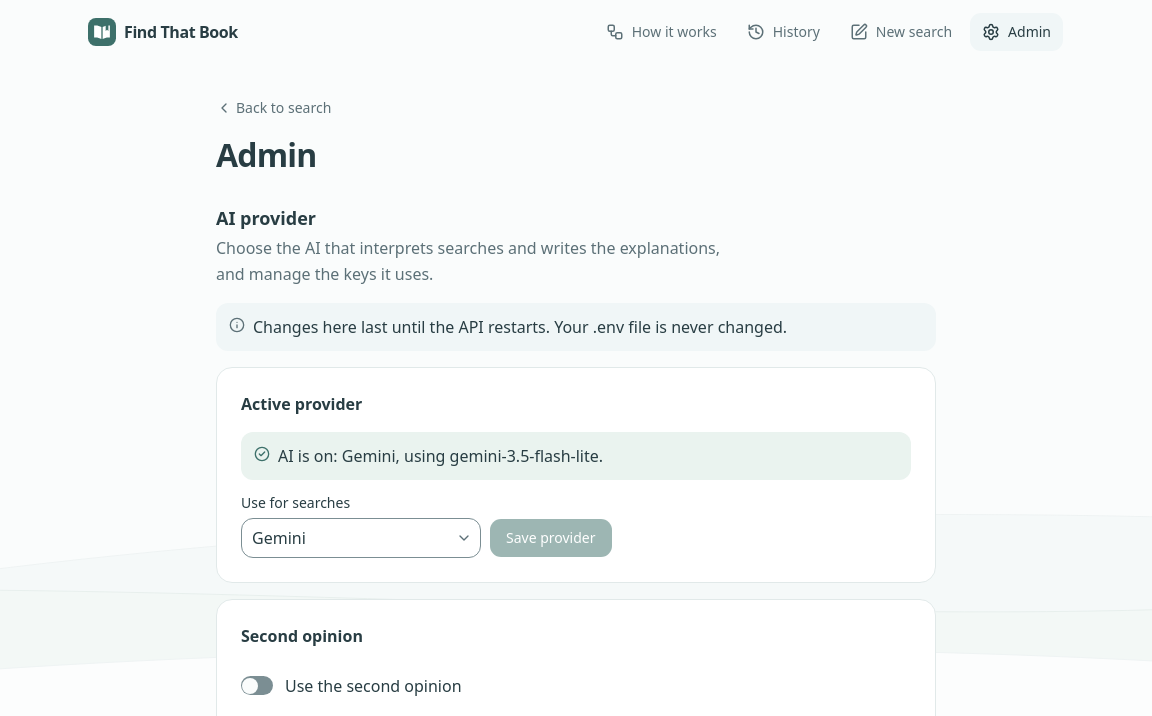
Turn on AI › offers automatic selection in the provider list and sends it as "auto"
Click the dropdown named "Use for searches": click(361, 538) [241,518,481,558]
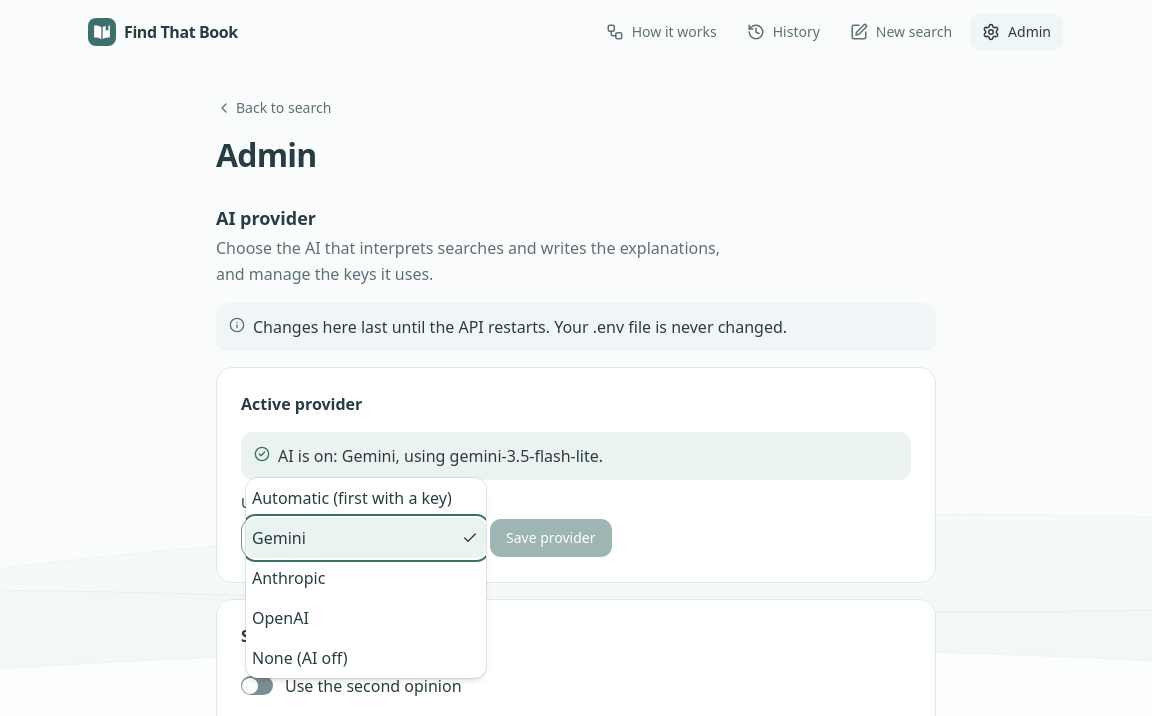
Click the option "Automatic (first with a key)": click(352, 498) [252,487,452,509]
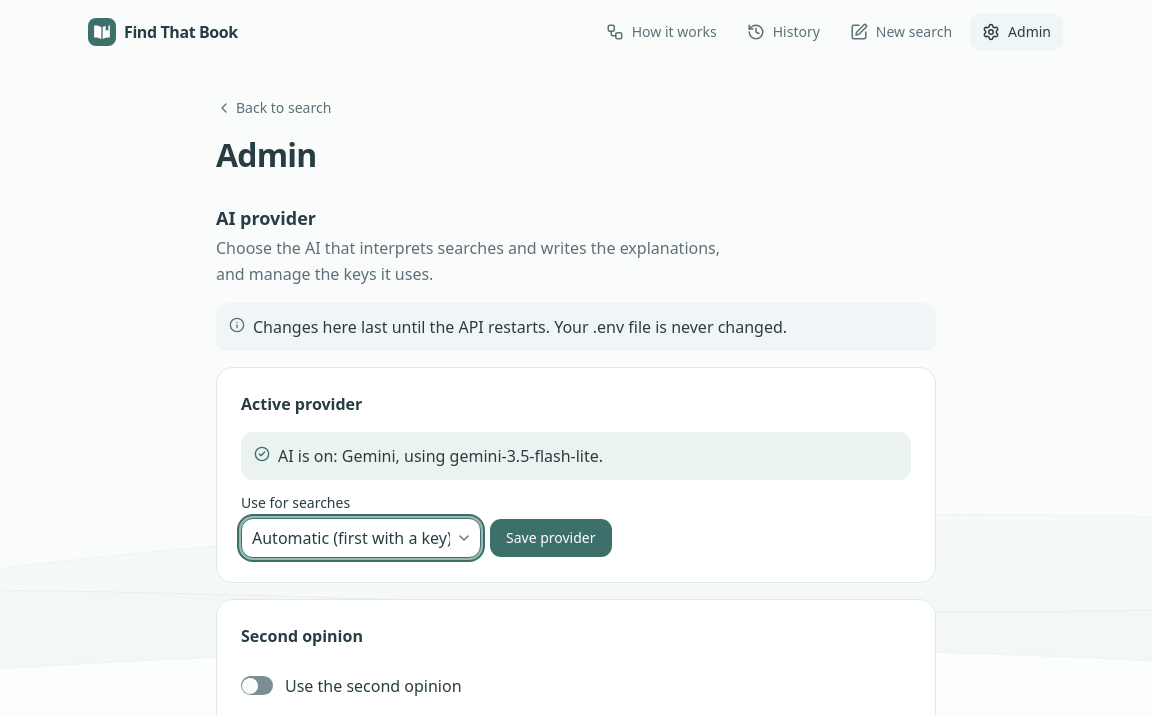
Click the button "Save provider": click(551, 538) [489,518,612,558]
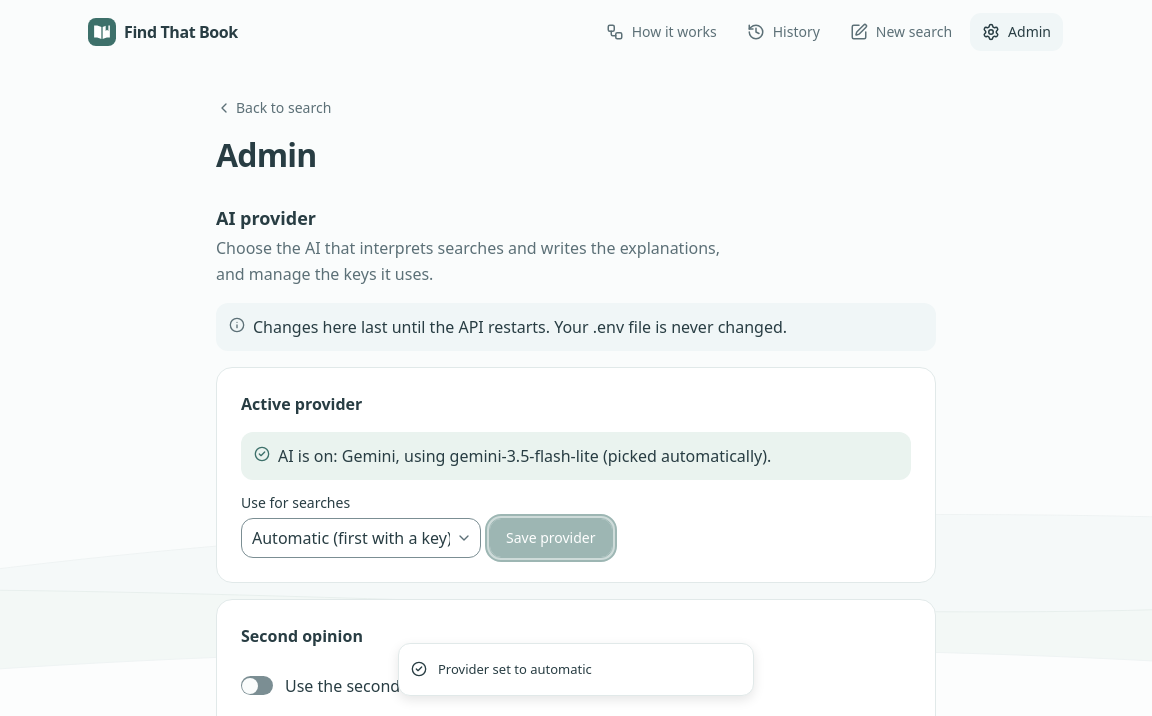
Expected: the text "Provider set to automatic" is shown, [438,660,592,679]
